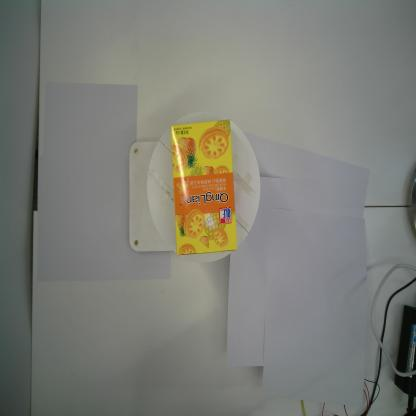Dessert: (169, 117, 238, 257)
